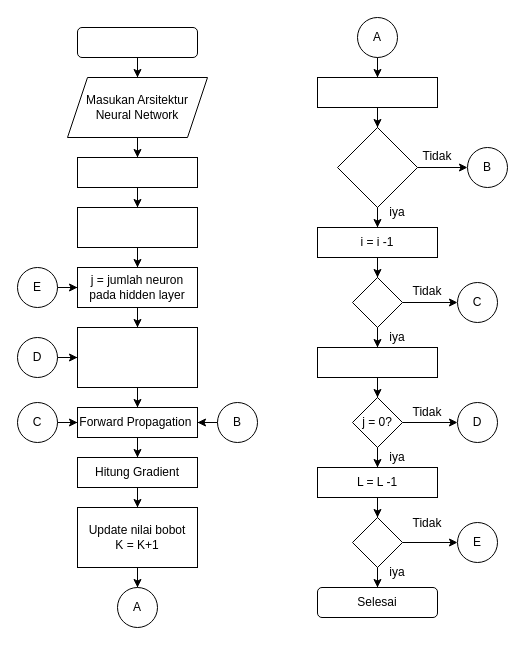
The diagram is 525 pixels wide and 645 high, and some of its shapes have lost their labels. The centre of each missing label's shape, as x and y in pixels:
error < Threshold?: (x=377, y=167)
Hitung Error: (x=377, y=92)
i = 0?: (x=377, y=302)
i = jumlah neuron pada hidden layer sebelumnya: (x=137, y=357)
Inisialisasi: (x=137, y=172)
j = j -1: (x=377, y=362)
L = 0?: (x=377, y=542)
L = Jumlah hidden layer + 1: (x=137, y=227)
Start: (x=137, y=42)
